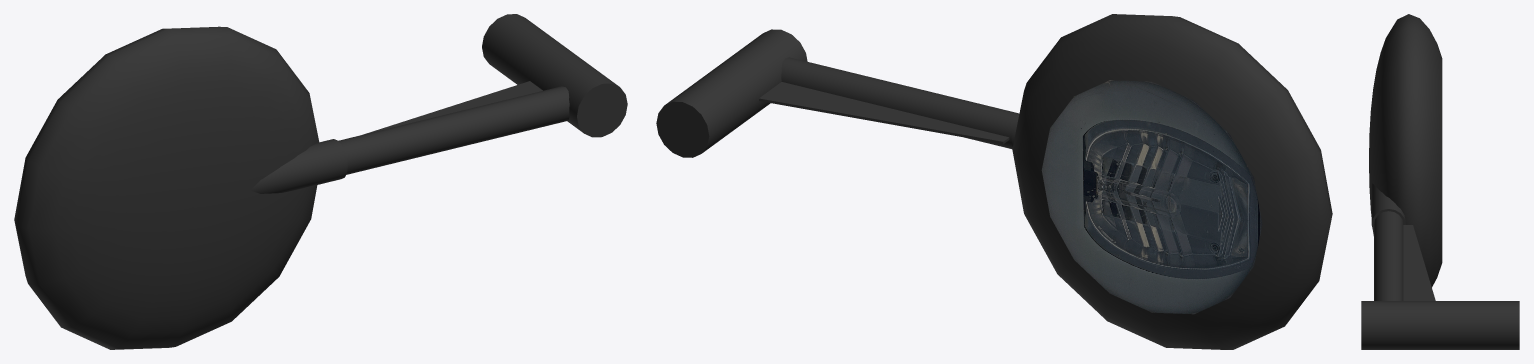
File: Discera_600.obj
3 views of the same model, side by side, from view 1: azimuth 30°, elevation 25°; view 2: azimuth 150°, elevation 25°; view 3: azimuth 270°, elevation 25° (orthographic). The views are drawn at different scales.
Visible parts, largest first — view 1: Discera600_BezierCurve, Cylinder.002_Cylinder.003, Cylinder.001_Cylinder.002, Cylinder.003_Cylinder.004, Cube; view 2: Discera600_BezierCurve, Cylinder.001_Cylinder.002, Cylinder.002_Cylinder.003, Cube; view 3: Discera600_BezierCurve, Cylinder.001_Cylinder.002, Cylinder.002_Cylinder.003, Cube, Cylinder.003_Cylinder.004.
Boxes of the visible parts, bbox=[...] form: Discera600_BezierCurve: bbox=[14, 26, 319, 349]; Cylinder.002_Cylinder.003: bbox=[338, 86, 569, 174]; Cylinder.001_Cylinder.002: bbox=[482, 14, 627, 137]; Cylinder.003_Cylinder.004: bbox=[250, 139, 347, 193]; Cube: bbox=[363, 81, 542, 134]; Discera600_BezierCurve: bbox=[1012, 14, 1332, 349]; Cylinder.001_Cylinder.002: bbox=[656, 29, 807, 157]; Cylinder.002_Cylinder.003: bbox=[781, 57, 1019, 148]; Cube: bbox=[759, 82, 1009, 144]; Discera600_BezierCurve: bbox=[1369, 14, 1442, 287]; Cylinder.001_Cylinder.002: bbox=[1361, 301, 1519, 349]; Cylinder.002_Cylinder.003: bbox=[1374, 211, 1403, 300]; Cube: bbox=[1403, 225, 1435, 300]; Cylinder.003_Cylinder.004: bbox=[1371, 183, 1405, 231].
Size of the model in its own units: 1.14 by 0.5986 by 0.3231.
